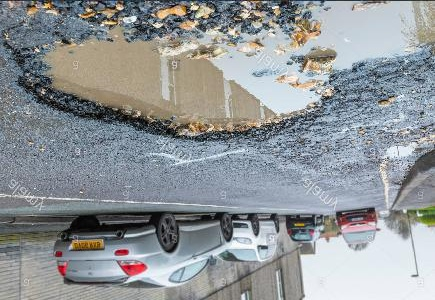pothole: (13, 15, 341, 147), (281, 0, 434, 80), (382, 143, 416, 162)
